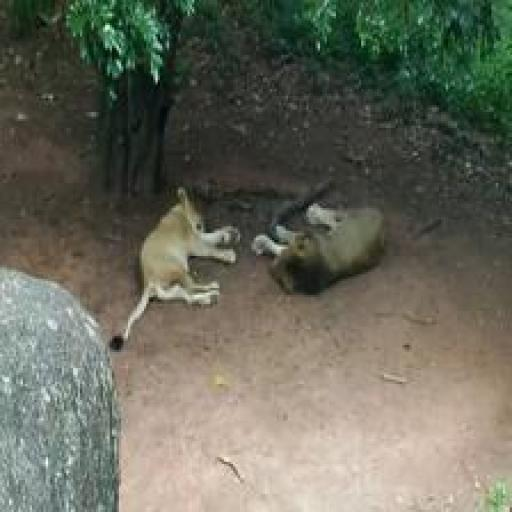Tiger: (110, 176, 248, 375)
